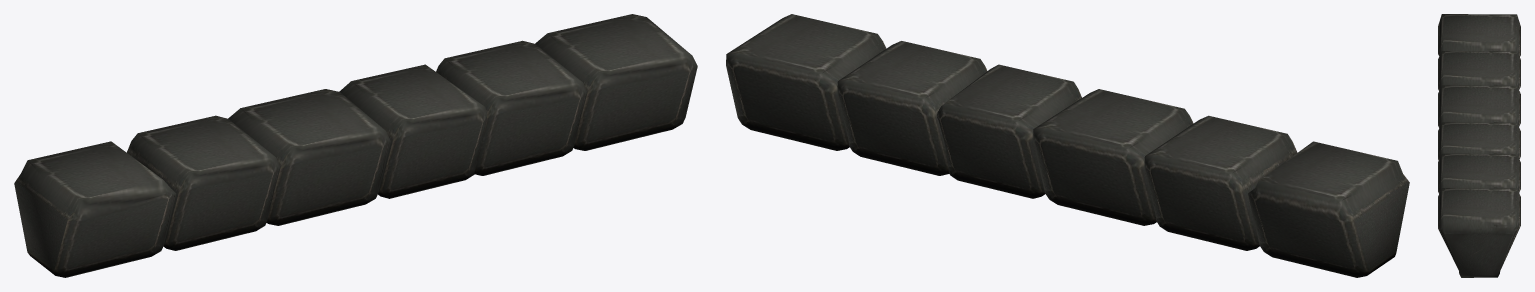
The model's file is Rims.fbx.
3 views of the same model, side by side, from view 1: azimuth 30°, elevation 25°; view 2: azimuth 150°, elevation 25°; view 3: azimuth 270°, elevation 25° (orthographic). The views are drawn at different scales.
Parts seen in each view (by area): view 1: Rim; view 2: Rim; view 3: Rim.
Boxes of the visible parts, x1,y1,x2,y2 form: Rim: [14, 14, 697, 277]; Rim: [726, 14, 1409, 277]; Rim: [1438, 14, 1520, 277].
Size of the model in its own units: 300 by 39.7 by 49.75.
